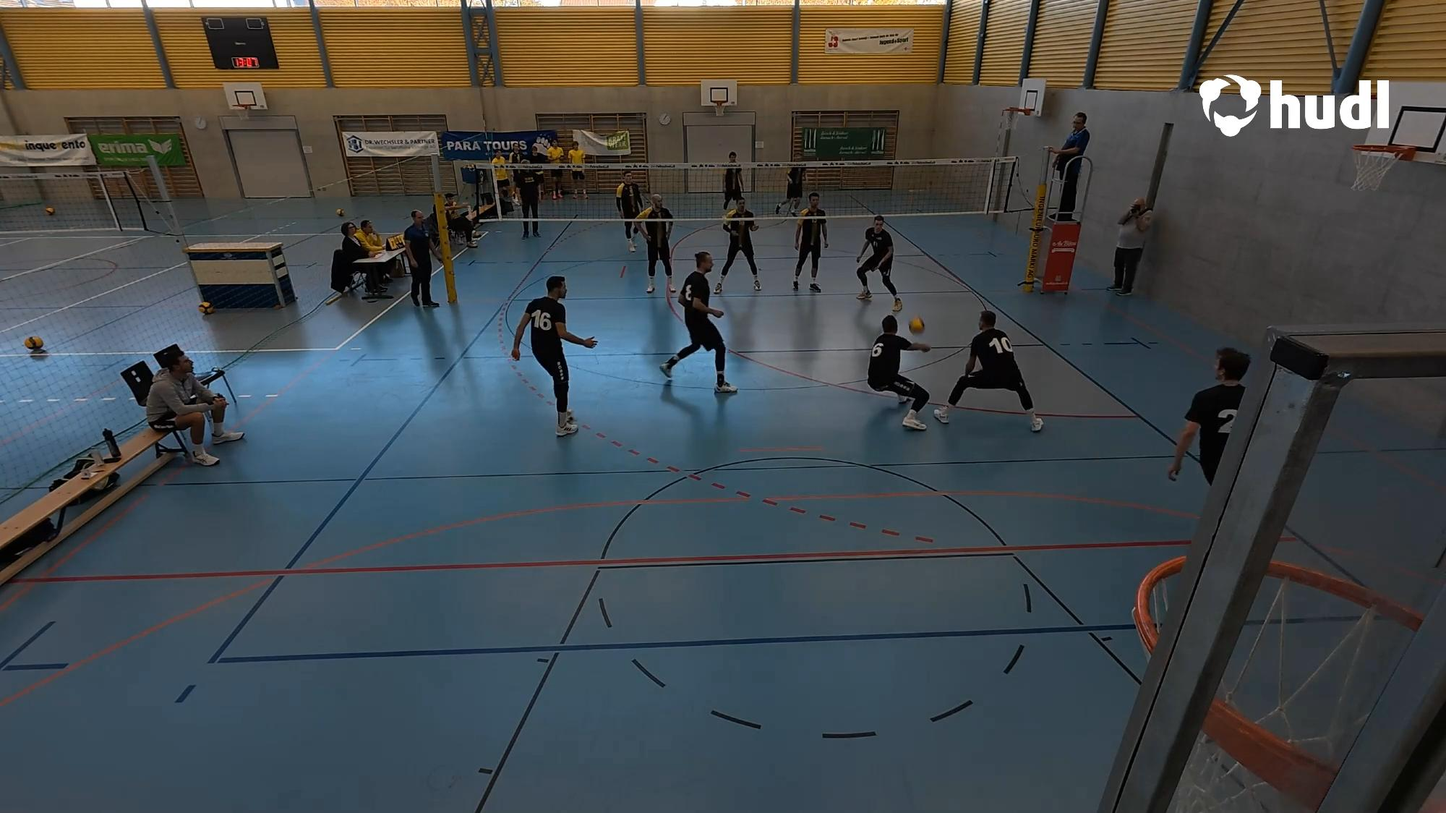ricezione: (863, 312, 936, 435)
